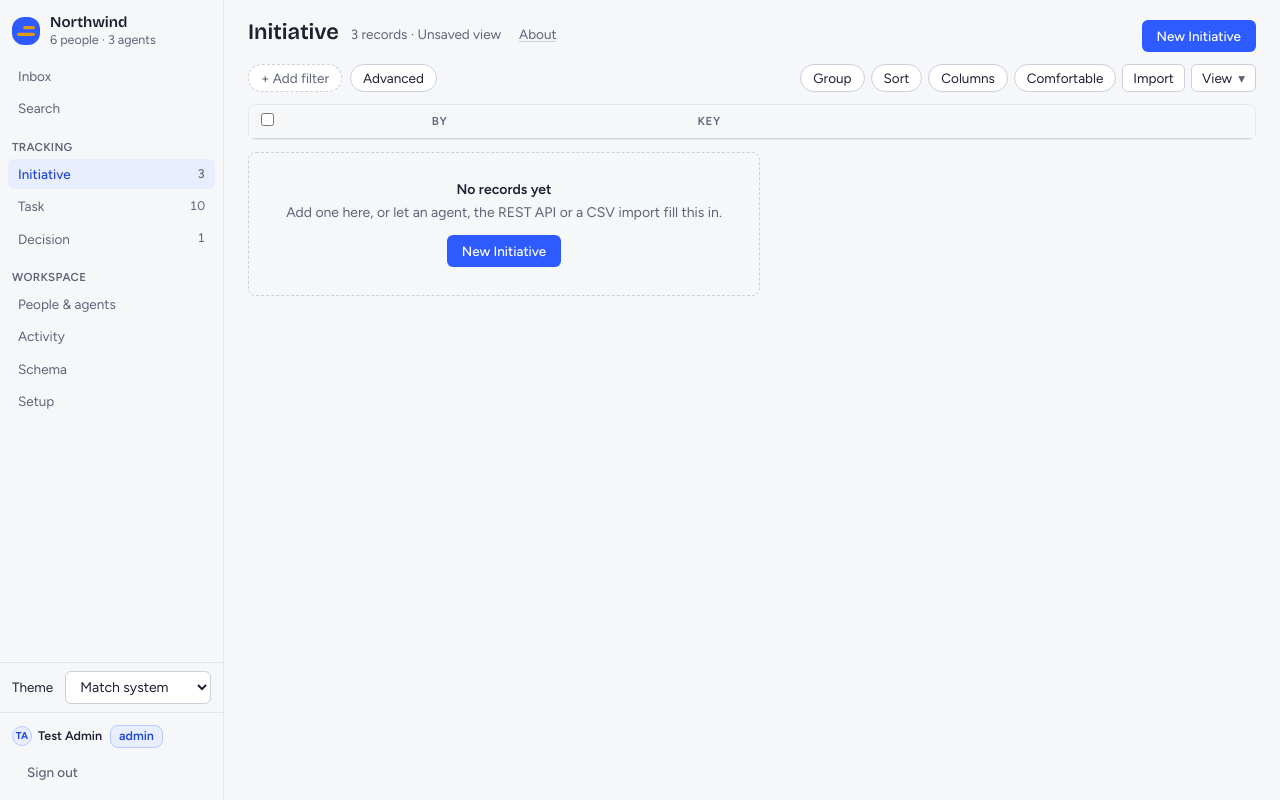
Test: App › navigates to an object type's page shell when its nav entry is clicked
expect the heading "Initiative" is shown: met, box x1=248 y1=20 x2=339 y2=45
Click the link "Task 10". click: (31, 206)
box: x1=18 y1=198 x2=205 y2=214
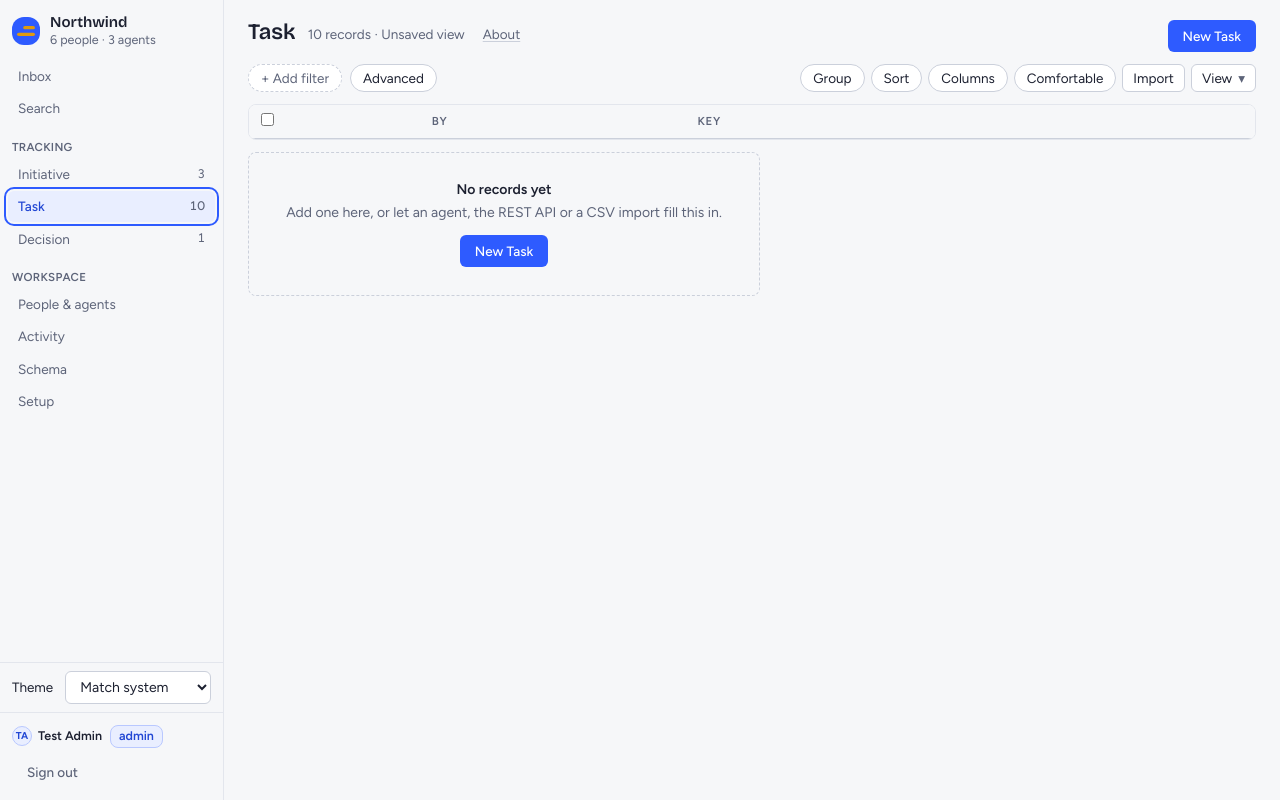
expect the heading "Task" is shown: met, box x1=248 y1=20 x2=296 y2=45
// Same as above: the description names which type this is, one click away.
Click the button with test id "about-toggle". click: (501, 34)
box: x1=477 y1=23 x2=526 y2=45
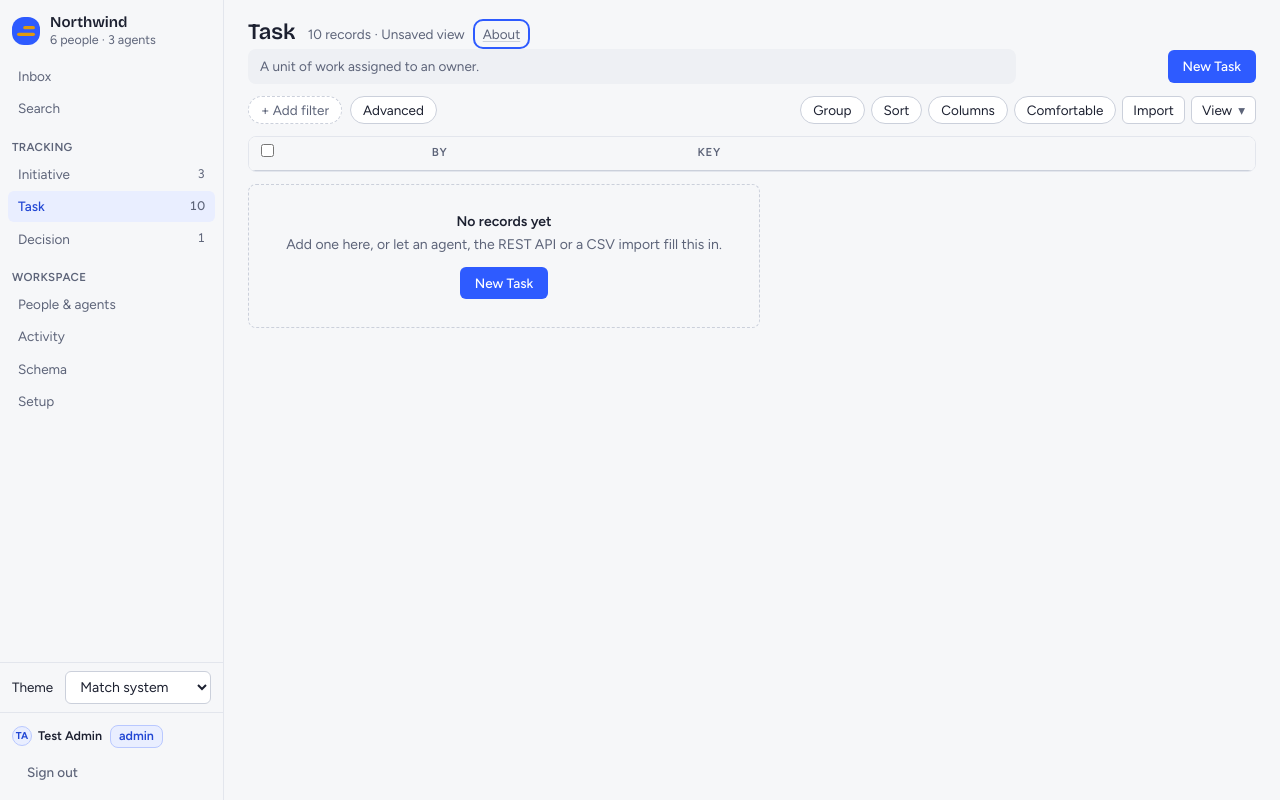
expect the text "A unit of work assigned to an owner." is shown: met, box x1=248 y1=49 x2=1016 y2=84
